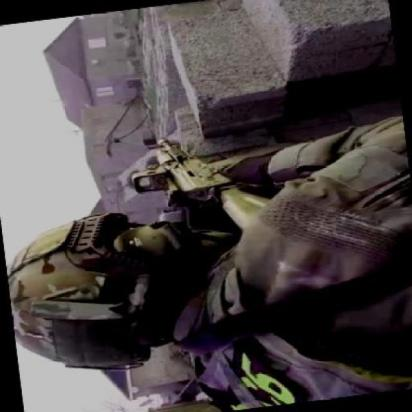Gun: (119, 119, 302, 253)
